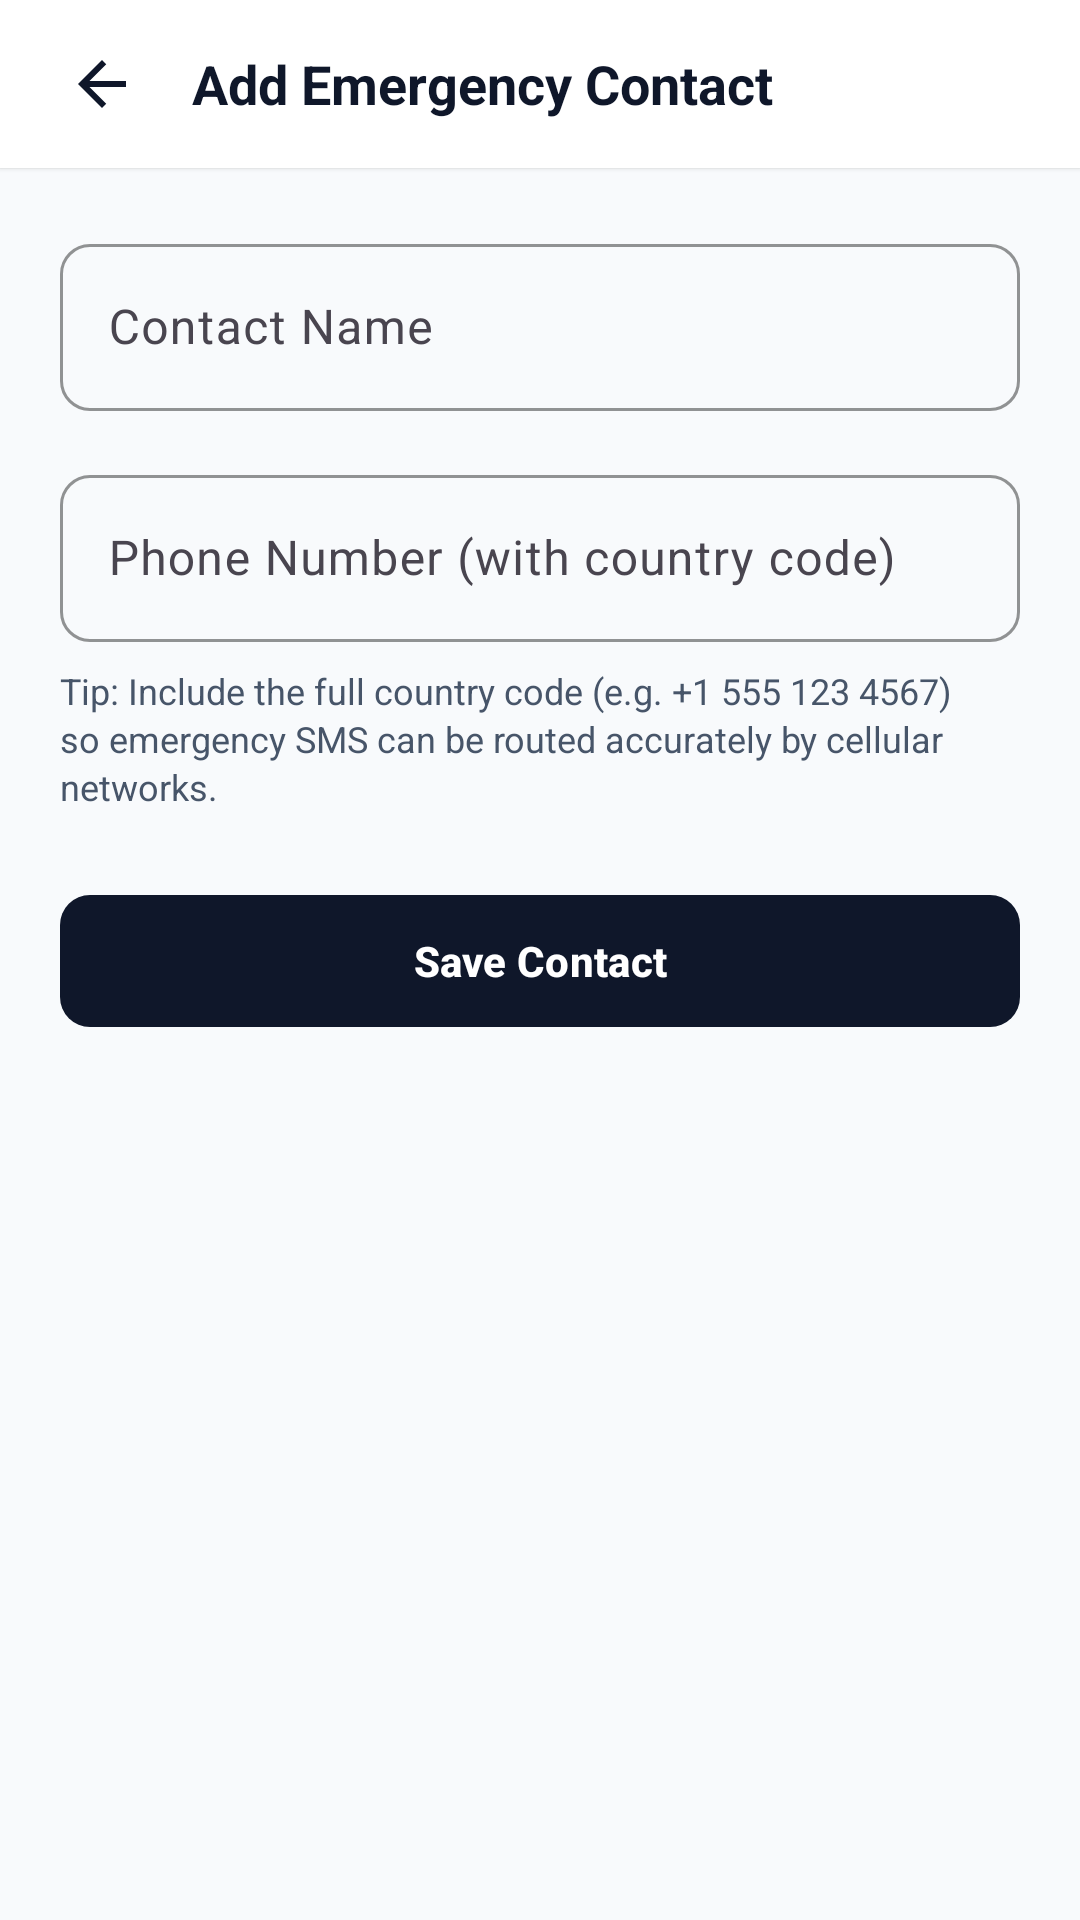

Where to tap for icons on this 1080×1920 app screen, as point (x, y):
Back: point (102, 84)
